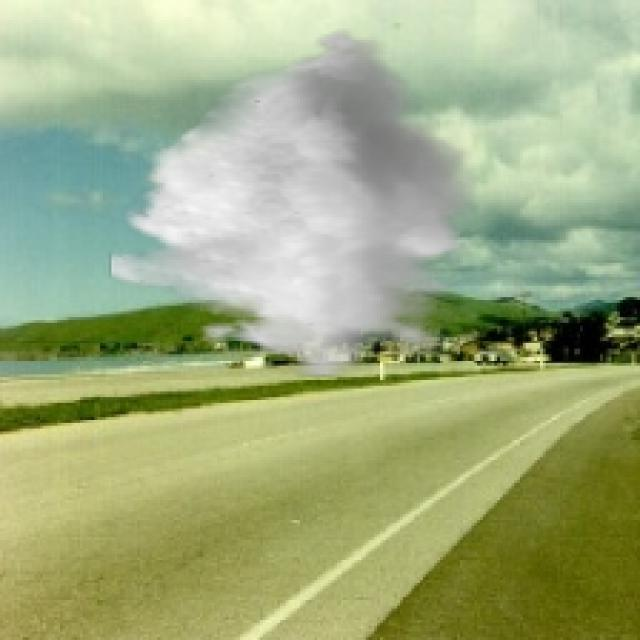Smoke: (109, 22, 478, 378)
